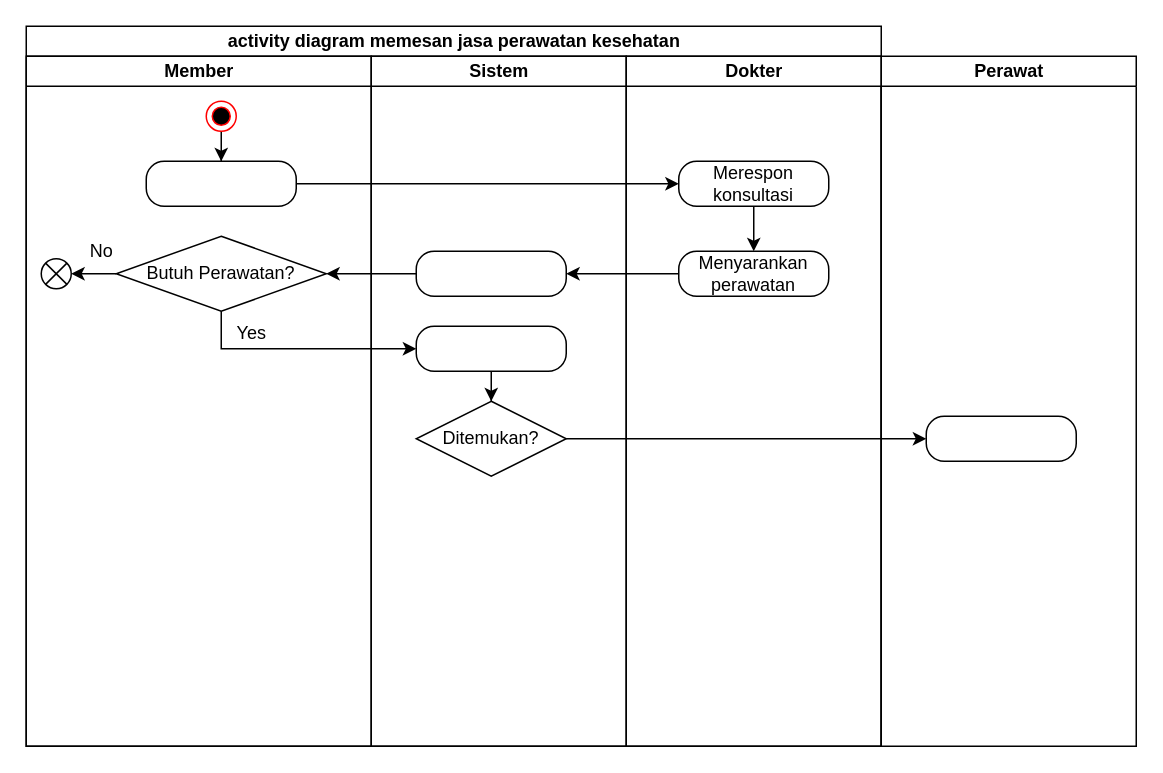
Image size: 1163x773. Some labels were removed from this diagram. The centre of each missing label's shape, as x and y in pixels:
Memulai konsultasi: (220,183)
Menampilkan saran perawatan: (490,273)
Mencari perawat terdekat: (490,348)
Menerima notif pesanan jasa: (1000,438)
